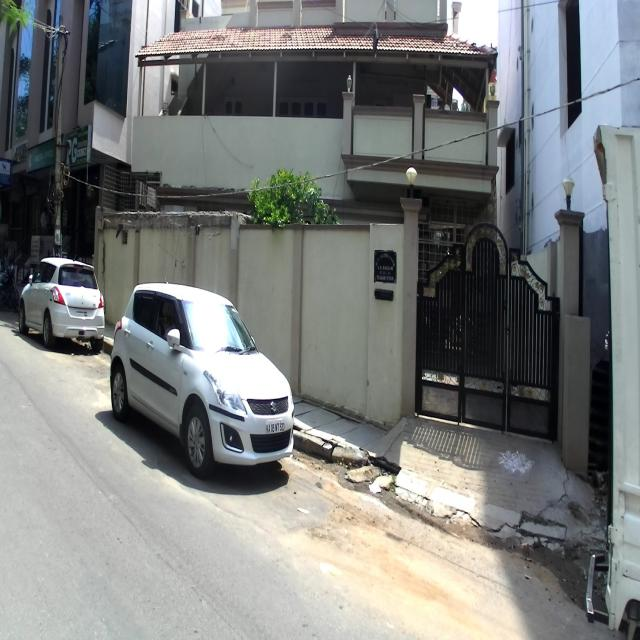car: (109, 270, 294, 478), (17, 255, 105, 352)
